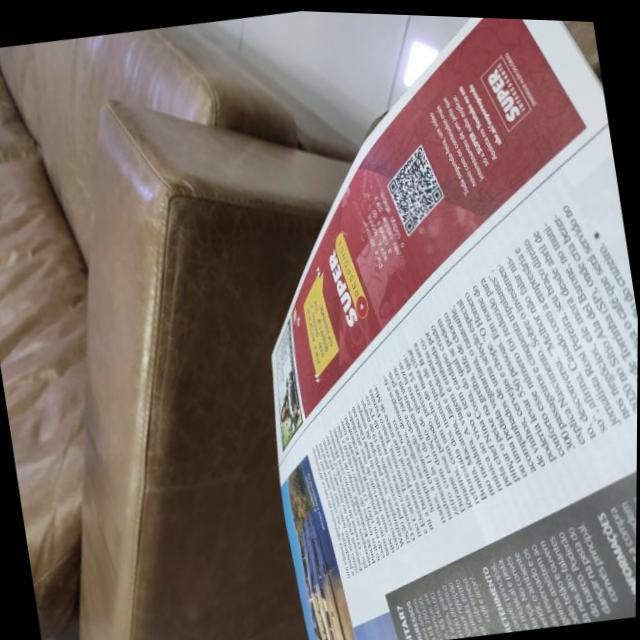qrcode: (384, 140, 450, 235)
